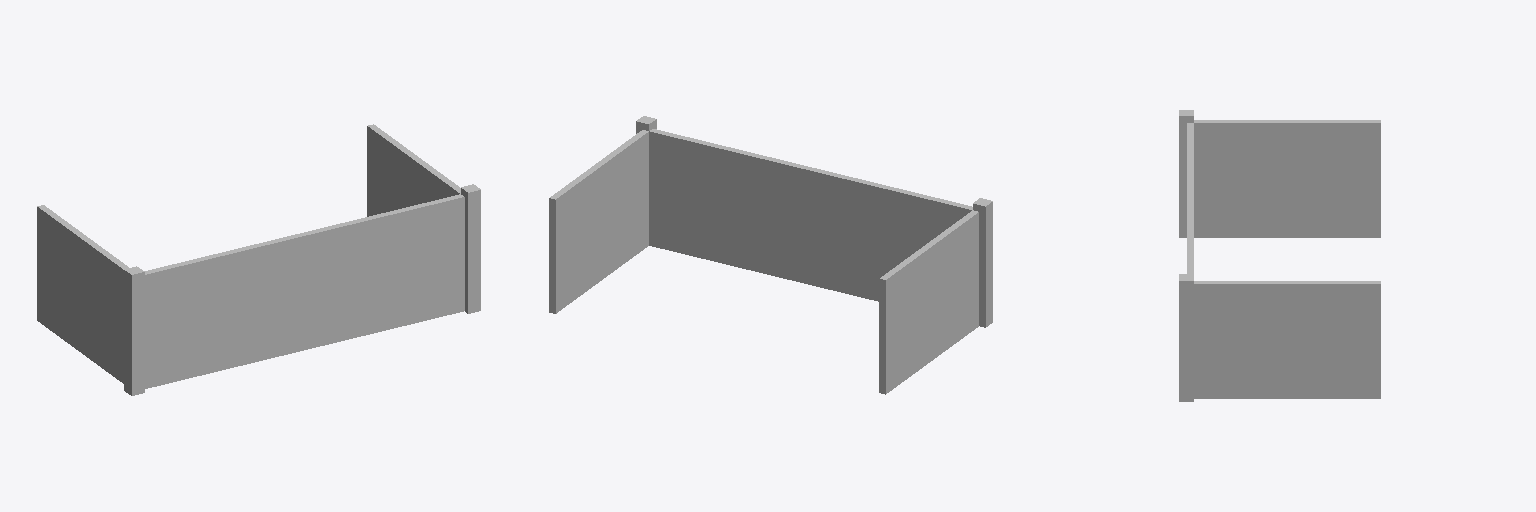
The model's file is fence_small.obj.
The picture shows the model from 3 angles: view 1: azimuth 30°, elevation 25°; view 2: azimuth 150°, elevation 25°; view 3: azimuth 270°, elevation 25°; orthographic projection.
Parts seen in each view (by area): view 1: fence_small; view 2: fence_small; view 3: fence_small.
Boxes of the visible parts, <box> form: fence_small: <box>37,124,480,395</box>; fence_small: <box>549,116,992,394</box>; fence_small: <box>1179,110,1380,401</box>.
Size of the model in its own units: 0.8 by 0.265 by 0.4.